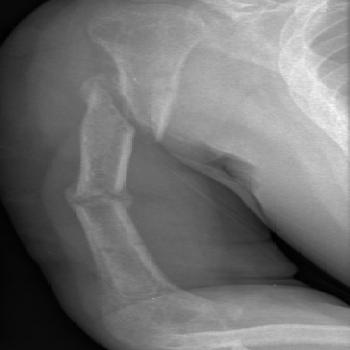Fracture: (86, 67, 176, 148), (48, 182, 159, 216)
